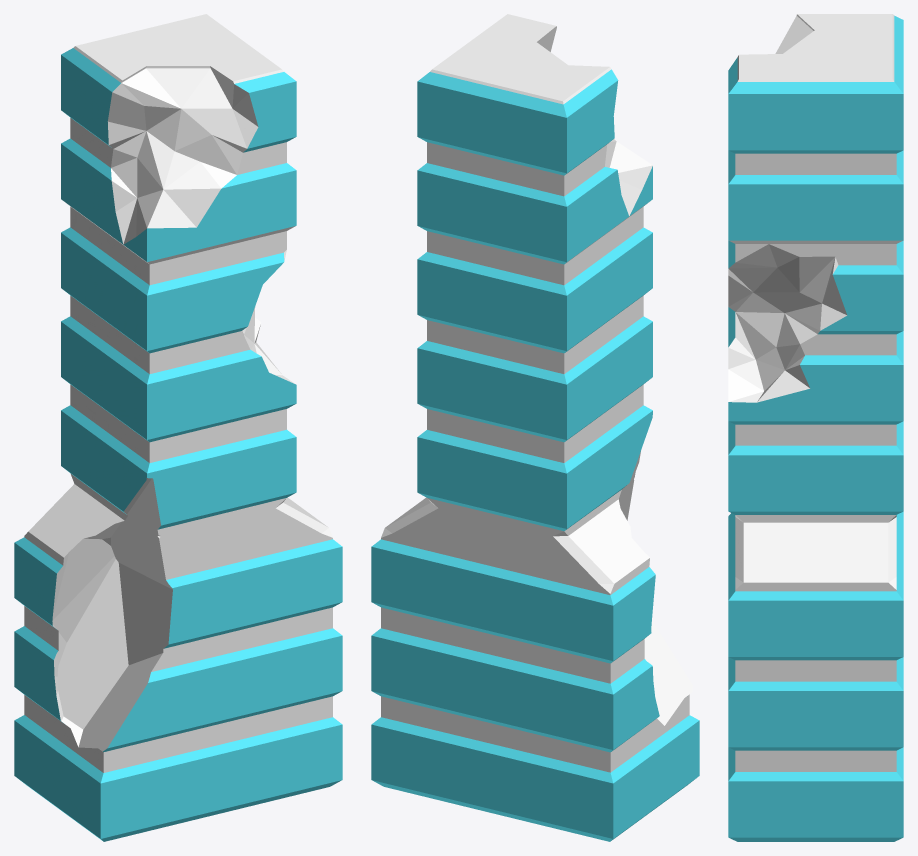
File: Building1.fbx
The picture shows the model from 3 angles, left to right: view 1: azimuth 30°, elevation 25°; view 2: azimuth 150°, elevation 25°; view 3: azimuth 270°, elevation 25°; orthographic projection.
Visible parts, largest first — view 1: Building1; view 2: Building1; view 3: Building1.
Part boxes in pixels (<box>): Building1: <box>14,14,342,841</box>; Building1: <box>371,14,699,841</box>; Building1: <box>728,14,903,841</box>.
Bounding box in the file's own units: 704 × 2027 × 435.
